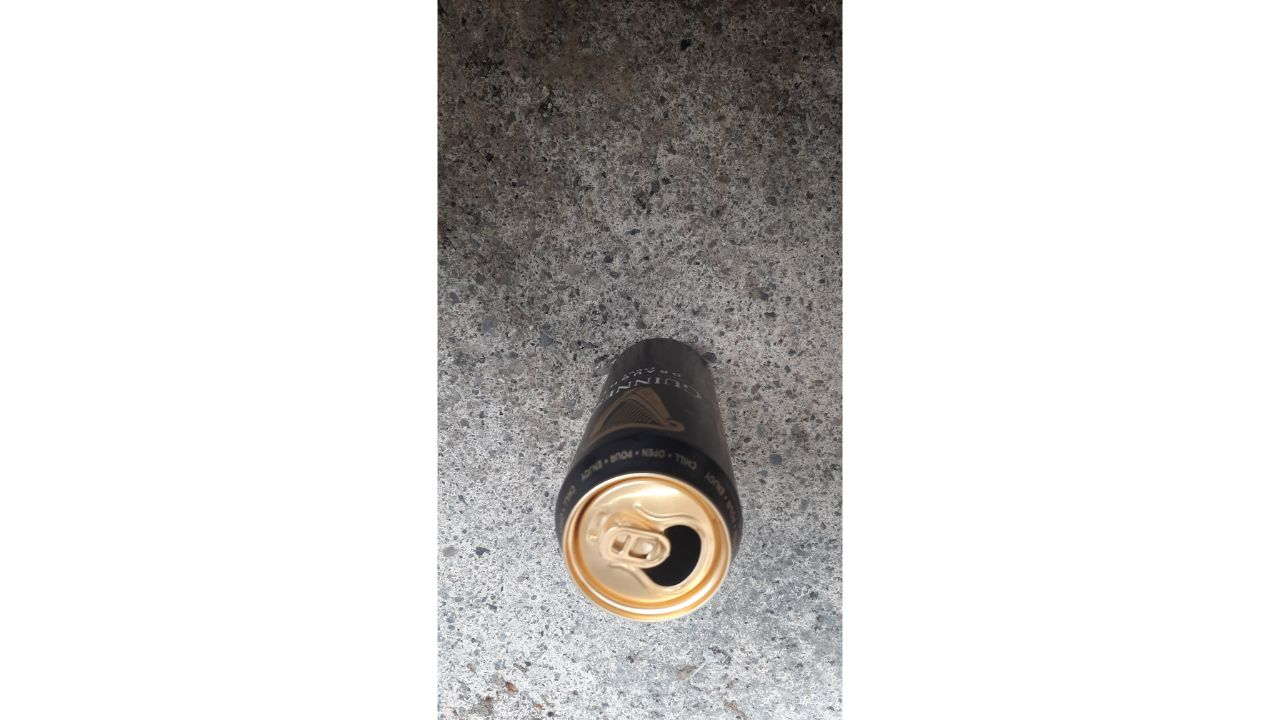Can: (540, 319, 766, 637)
